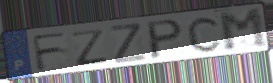C: (186, 14, 224, 54)
F: (30, 30, 70, 74)
M: (216, 7, 270, 53)
P: (146, 17, 186, 62)
Z: (108, 21, 149, 65), (69, 27, 110, 67)
